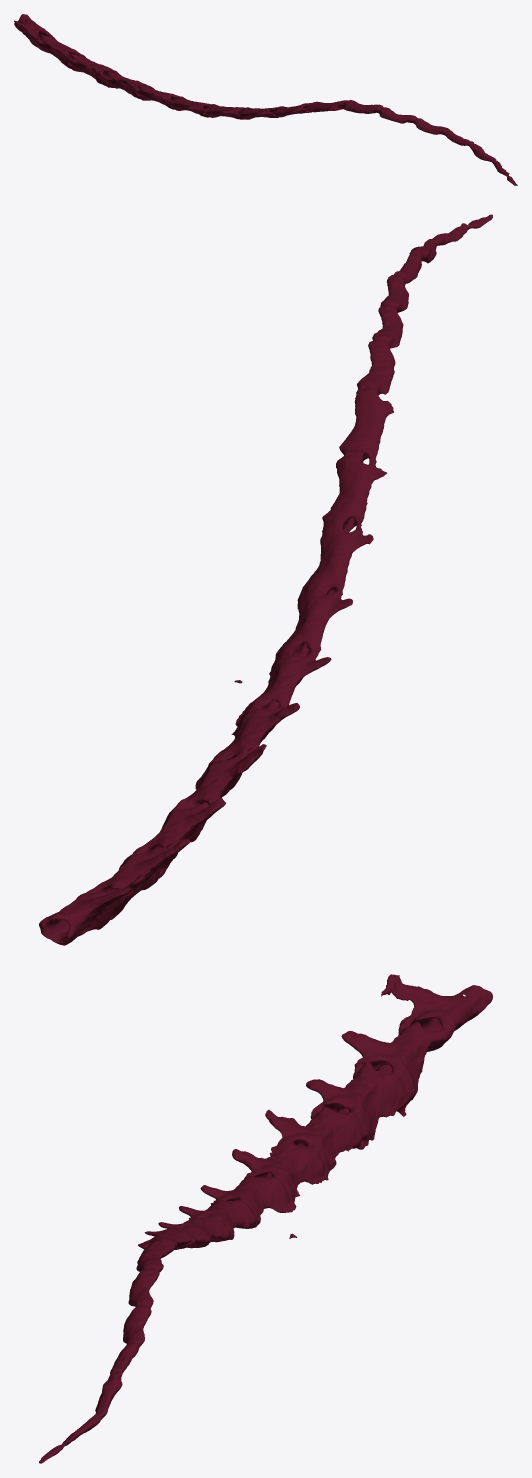
File: caudalsDist.glb
3 renders of one model, top to bottom at view 1: azimuth 30°, elevation 25°; view 2: azimuth 150°, elevation 25°; view 3: azimuth 330°, elevation 25°, orthographic. The views are drawn at different scales.
Parts seen in each view (by area): view 1: Shape_IndexedFaceSet; view 2: Shape_IndexedFaceSet; view 3: Shape_IndexedFaceSet.
Boxes of the visible parts, bbox=[...] form: Shape_IndexedFaceSet: bbox=[14, 14, 517, 185]; Shape_IndexedFaceSet: bbox=[39, 214, 492, 945]; Shape_IndexedFaceSet: bbox=[39, 974, 492, 1463].
Size of the model in its own units: 0.0172 by 0.0096 by 0.0633.
